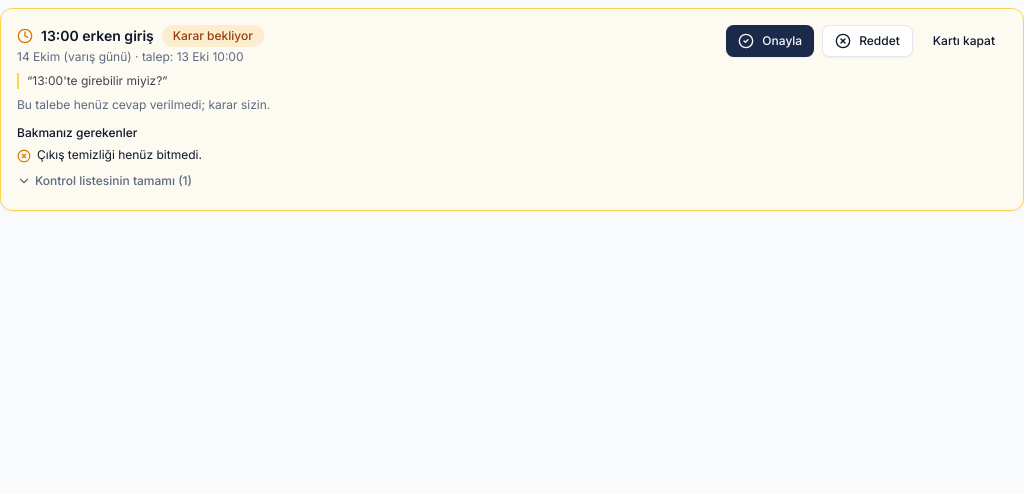
karar paneli — yapay zekâ taslağı ve metin denetimi › anahtar AÇIK: şablon hemen görünür, yapay zekâ taslağı gelince yerine geçer
Click the button "Reddet".
click(868, 41)  # box [822,25,913,57]
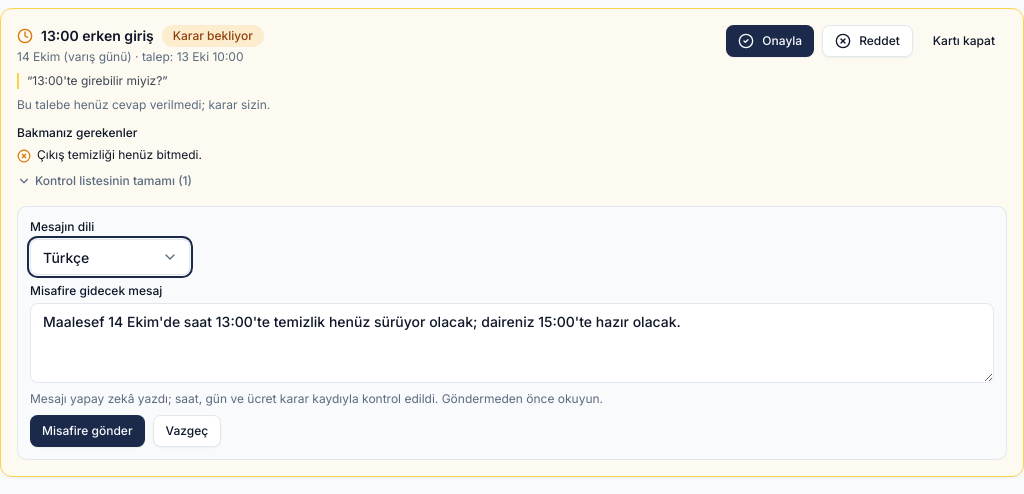
Expected: the text box labelled "Misafire gidecek mesaj" holds "Maalesef 14 Ekim'de saat 13:00'te temizlik henüz sürüyor olacak; daireniz 15:00'te hazır olacak.", [30,303,994,383]
Expected: the text with test id "decision-ai-caption" shows "Mesajı yapay zekâ yazdı", [30,391,603,406]
